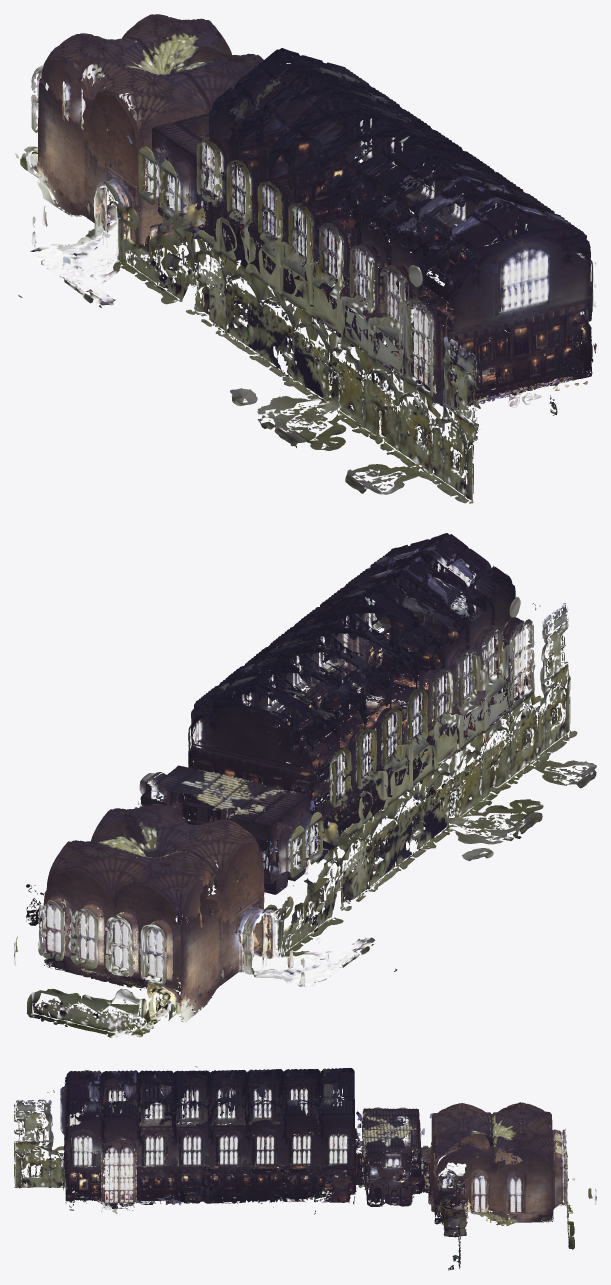
The model's file is christ-church.glb.
3 renders of one model, top to bottom at view 1: azimuth 30°, elevation 25°; view 2: azimuth 150°, elevation 25°; view 3: azimuth 270°, elevation 25°, orthographic. The views are drawn at different scales.
Parts seen in each view (by area): view 1: Christ Church, Oxford; view 2: Christ Church, Oxford; view 3: Christ Church, Oxford.
Part boxes in pixels (left/top/right/bottom): Christ Church, Oxford: left=14, top=14, right=596, bottom=503; Christ Church, Oxford: left=14, top=533, right=596, bottom=1037; Christ Church, Oxford: left=14, top=1066, right=596, bottom=1270.
Bounding box in the file's own units: 32.44 × 21.63 × 70.15.
15 materials, 14 textured.
